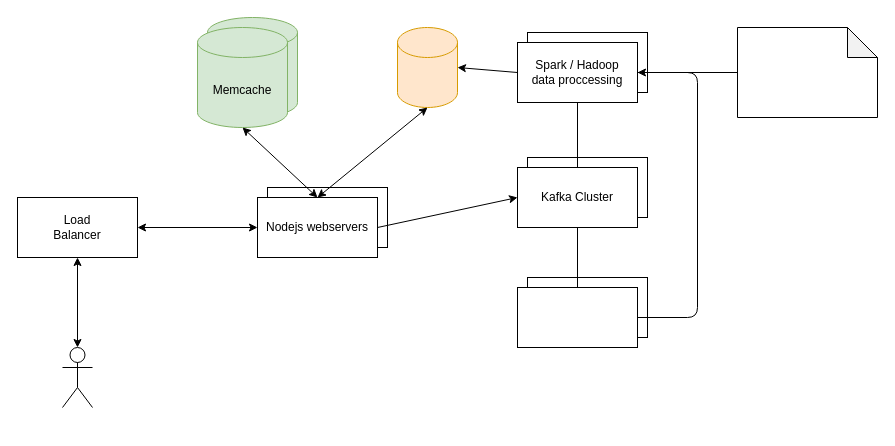
The diagram is 895 pixels wide and 446 high, and some of its shapes have lost their labels. The shapes that lost their labels are listed below. From the top down, each one's centre as x and y in pixels, then its label:
(427,67): MYSQL
(807,72): Reported cases processor Popular Country processor
(577,317): HDFS data lake
(77,377): Client
